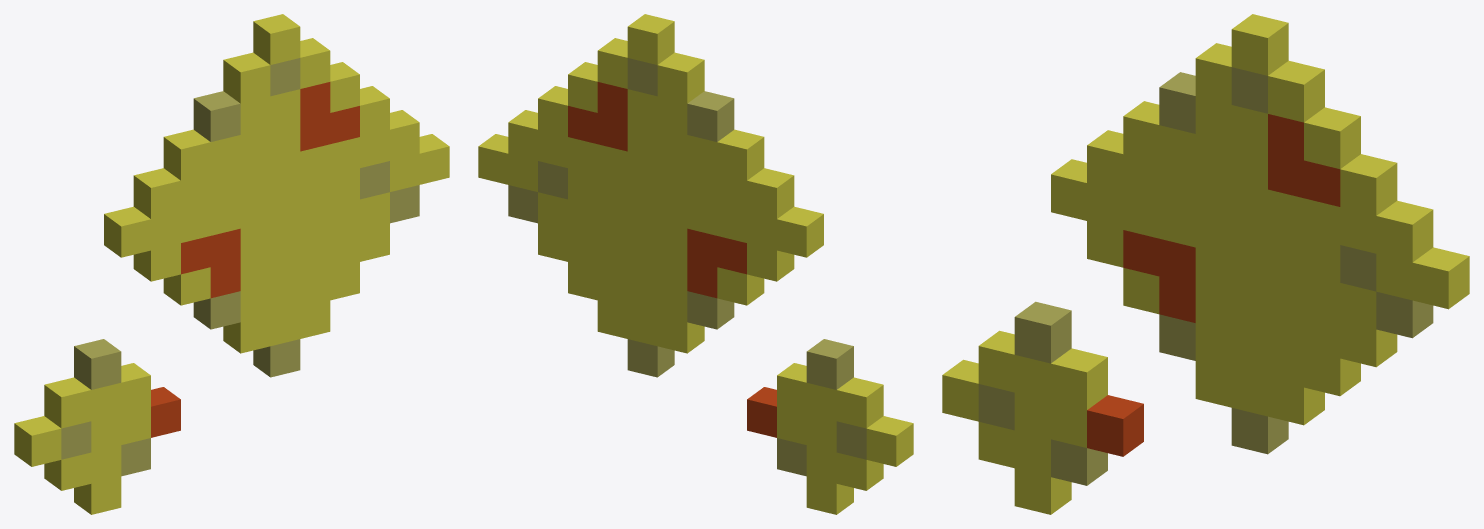
File: item extra-estrela.obj
3 renders of one model, left to right at view 1: azimuth 30°, elevation 25°; view 2: azimuth 150°, elevation 25°; view 3: azimuth 330°, elevation 25°, orthographic. The views are drawn at different scales.
Parts seen in each view (by area): view 1: ObjObject; view 2: ObjObject; view 3: ObjObject.
Part boxes in pixels (bbox=[...]): ObjObject: bbox=[14, 14, 449, 514]; ObjObject: bbox=[478, 14, 913, 514]; ObjObject: bbox=[942, 14, 1469, 514].
Size of the model in its own units: 1.4 by 1.4 by 0.1.
1 material, 1 textured.
